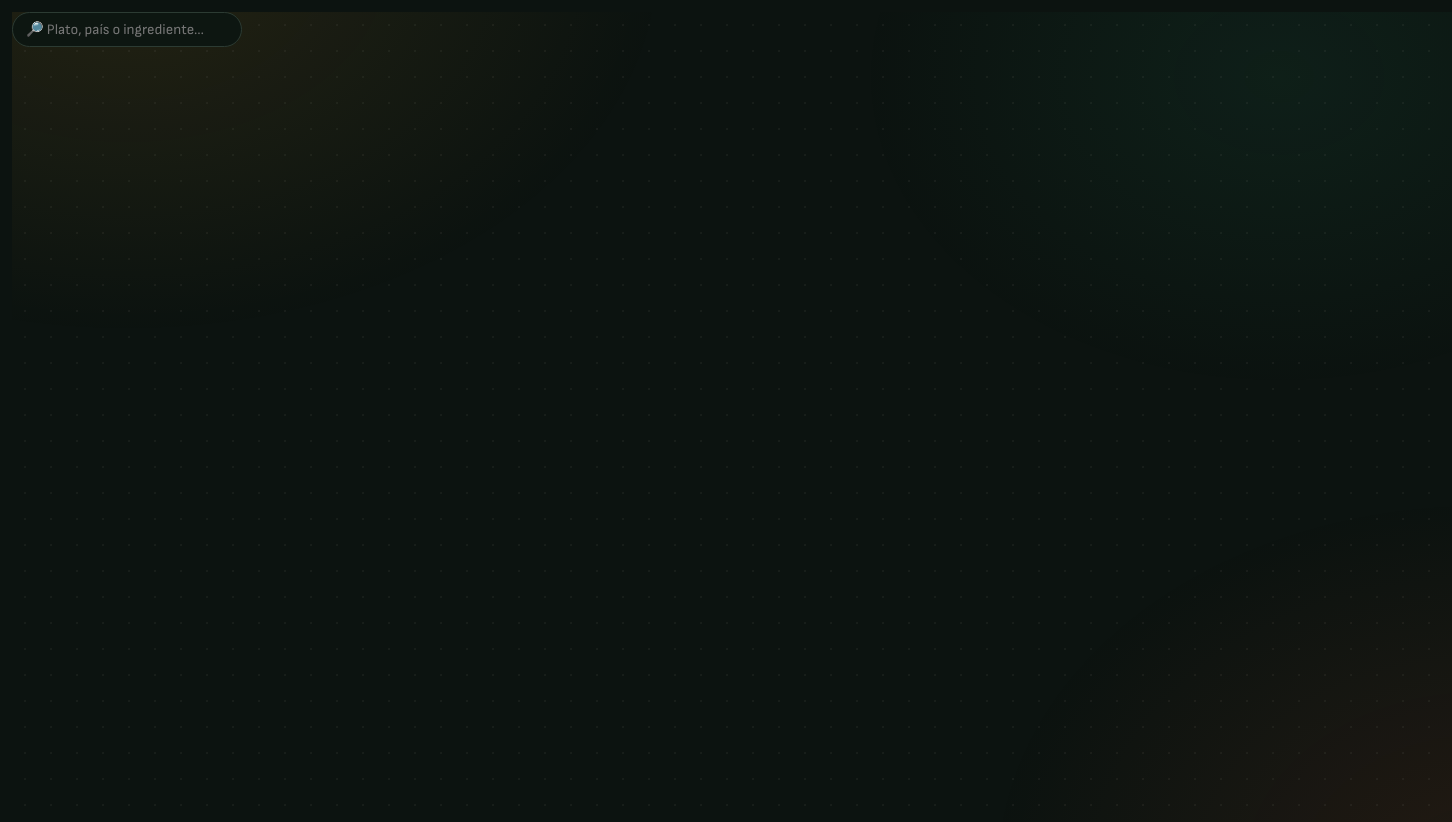
it: buscador › no hace request con menos de 2 caracteres y sí con 2
Type "a" into the dropdown named "Buscar" at (127, 30), box [12,12,242,47]
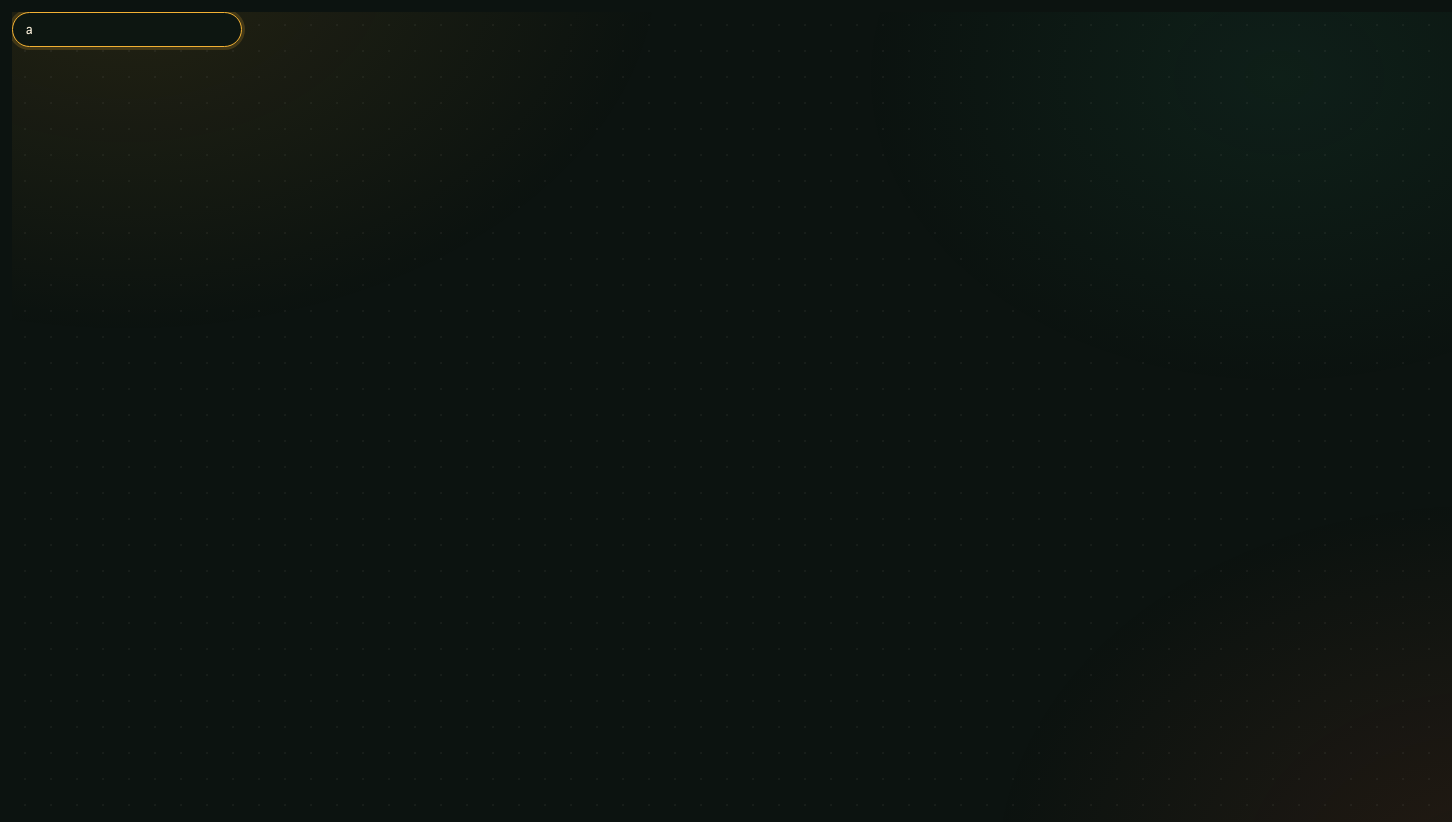
Type "r" into the dropdown named "Buscar" at (127, 30), box [12,12,242,47]
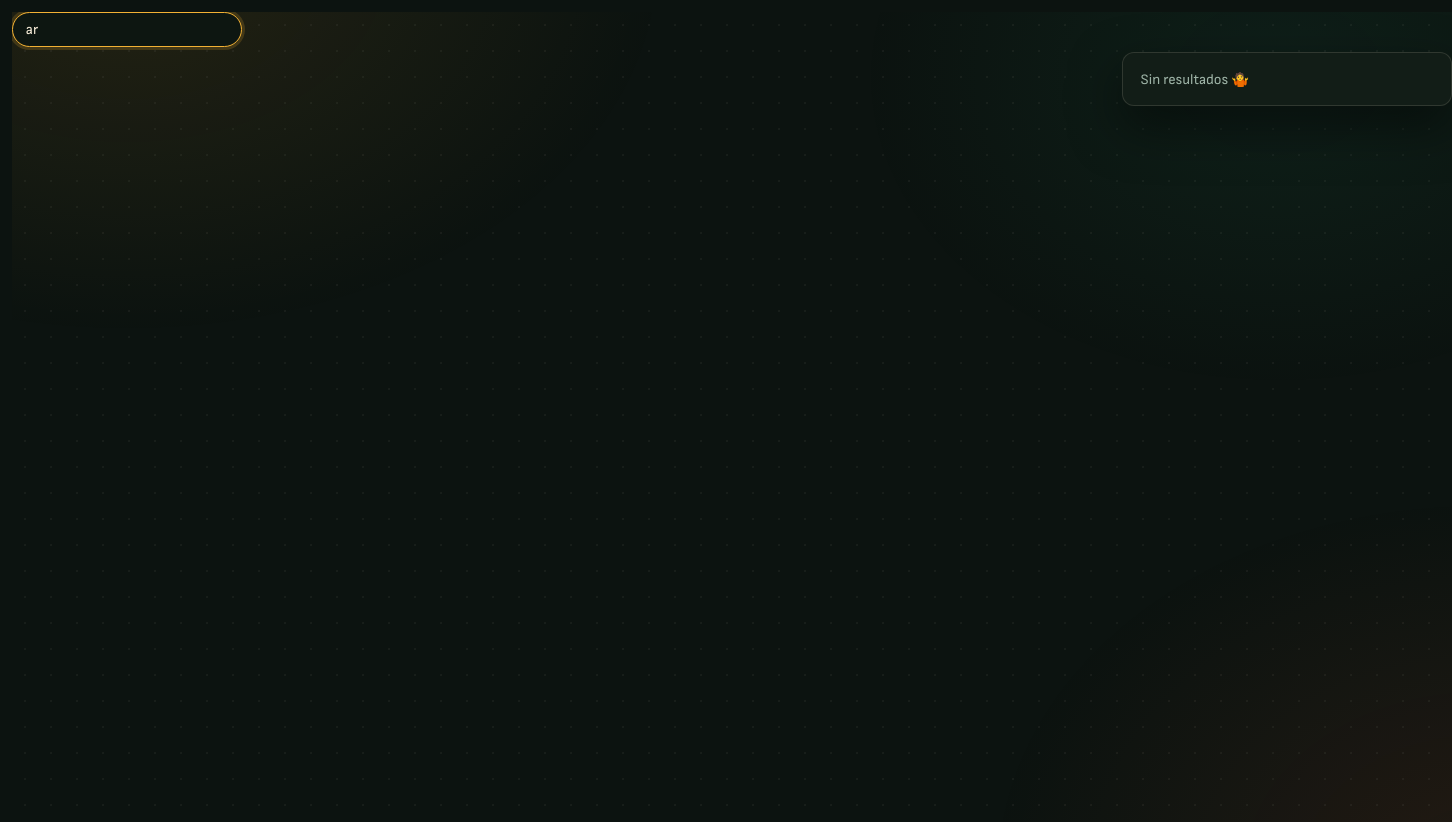
Result: the text "Sin resultados 🤷" is shown at [1141,71,1249,88]
